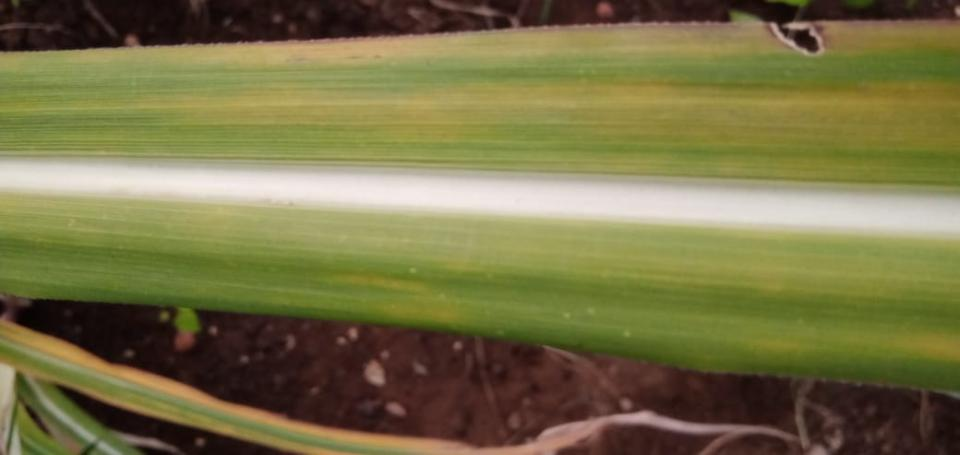Yellow: (0, 75, 959, 152), (0, 24, 959, 75), (208, 146, 959, 183), (742, 327, 959, 363), (316, 271, 466, 323)
